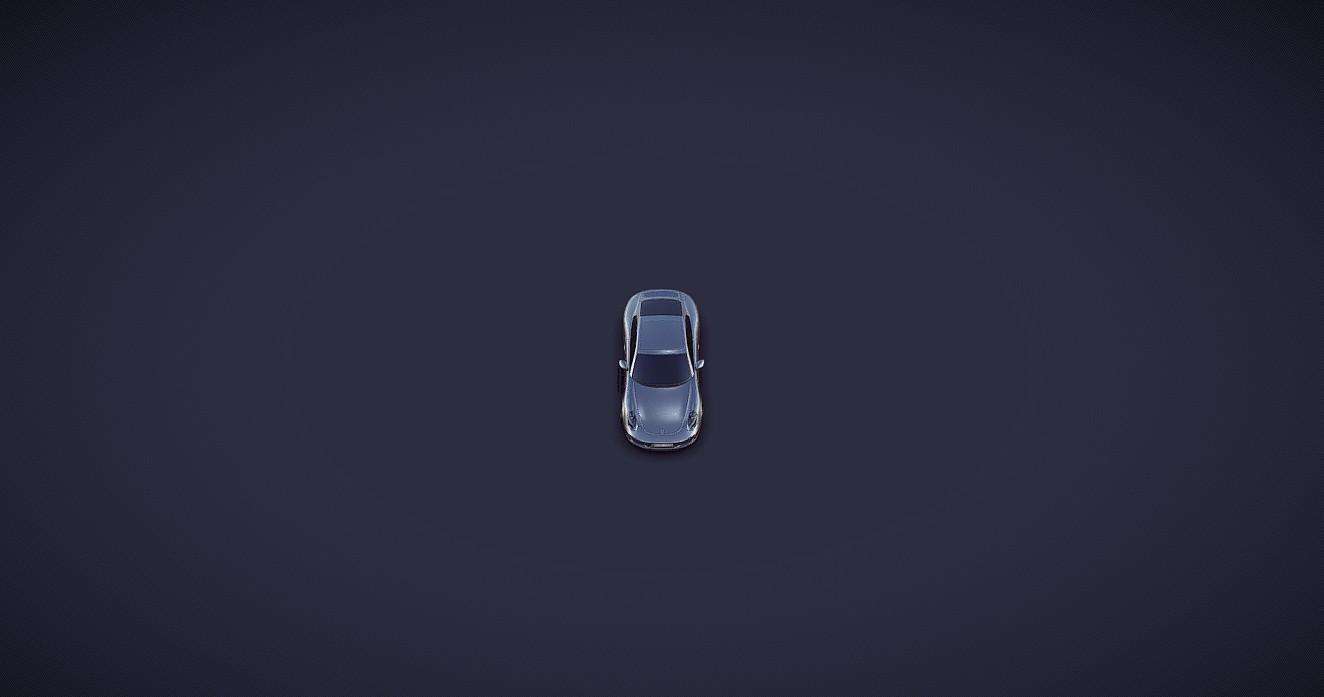Car: (616, 287, 705, 452)
